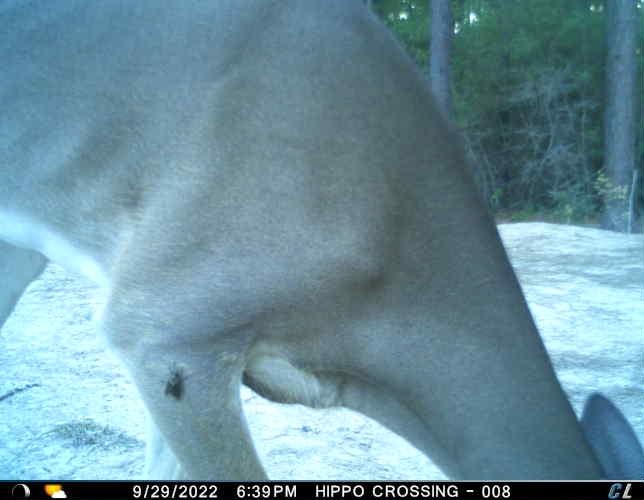Deer: (2, 0, 643, 482)
